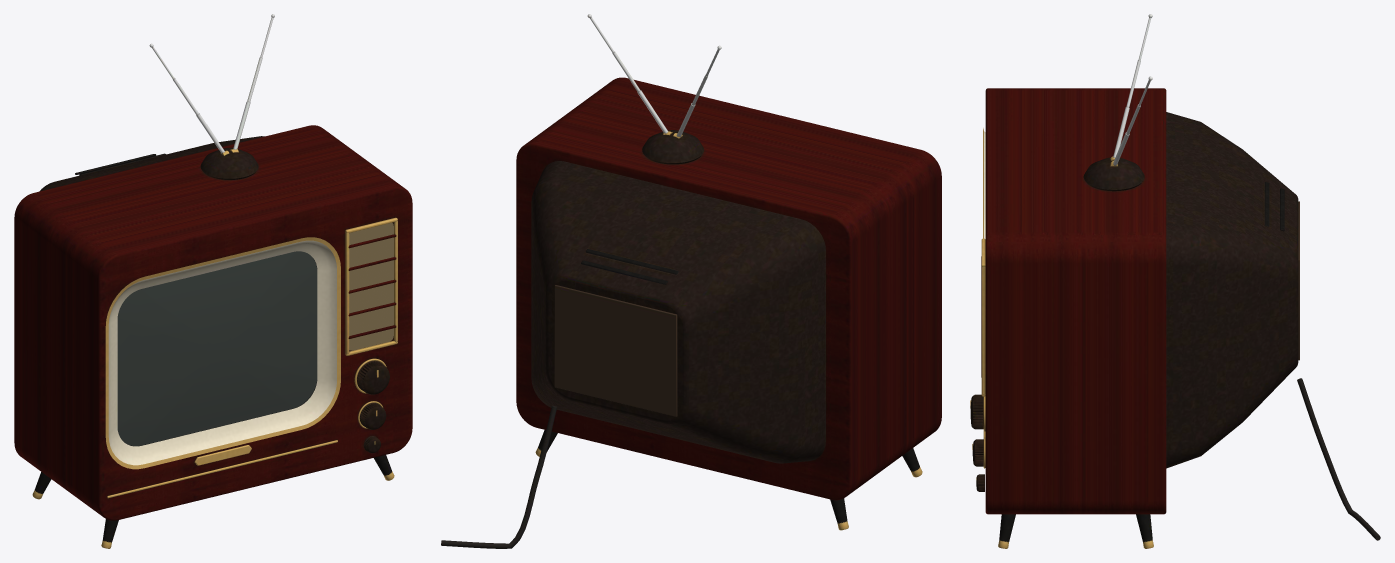
The picture shows the model from 3 angles, left to right: view 1: azimuth 30°, elevation 25°; view 2: azimuth 150°, elevation 25°; view 3: azimuth 270°, elevation 25°; orthographic projection. The views are drawn at different scales.
Parts seen in each view (by area): view 1: tv, screen, knob_channel, knob_volume; view 2: tv; view 3: tv, knob_channel.
Boxes of the visible parts, x1,y1,x2,y2 form: tv: (14,14,412,548); screen: (117,251,317,446); knob_channel: (354,358,389,394); knob_volume: (358,401,386,429); tv: (441,14,941,548); tv: (981,14,1380,548); knob_channel: (970,394,985,431).
Size of the model in its own units: 5.5 by 7.13 by 5.91.
3 materials, 2 textured.
